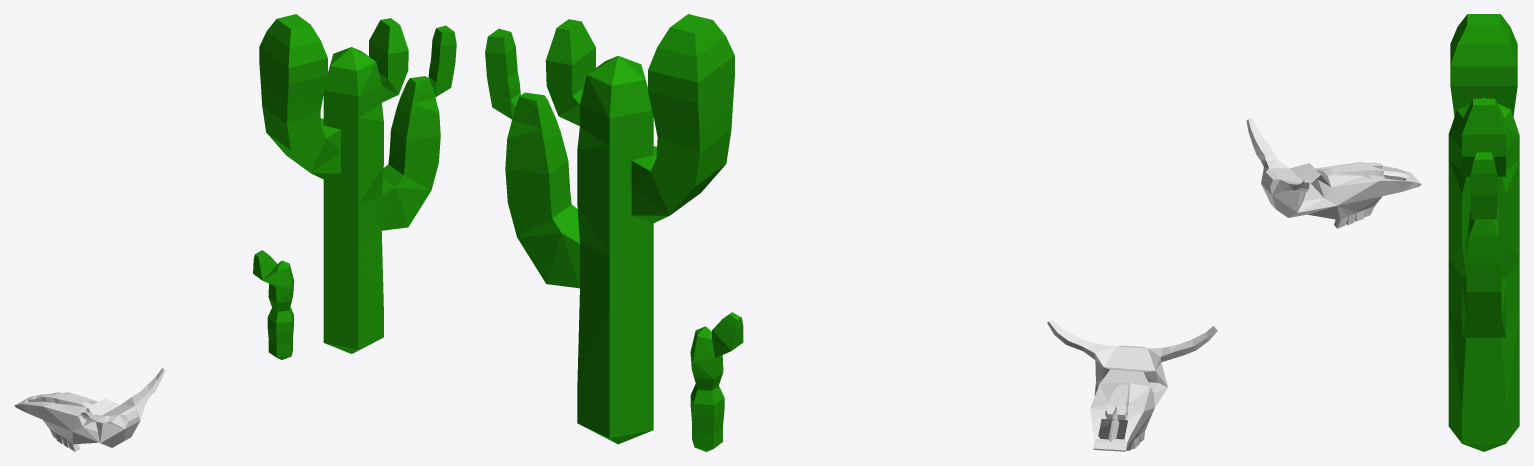
File: cactus.dae
3 views of the same model, side by side, from view 1: azimuth 30°, elevation 25°; view 2: azimuth 150°, elevation 25°; view 3: azimuth 270°, elevation 25° (orthographic). The views are drawn at different scales.
Visible parts, largest first — view 1: Icosphere, Cube.001, Icosphere_001; view 2: Icosphere, Cube.001, Icosphere_001; view 3: Icosphere, Cube.001.
Part boxes in pixels (x1=…): Icosphere: x1=259, y1=14, x2=456, y2=353; Cube.001: x1=14, y1=368, x2=164, y2=451; Icosphere_001: x1=253, y1=250, x2=294, y2=359; Icosphere: x1=485, y1=14, x2=734, y2=444; Cube.001: x1=1047, y1=320, x2=1217, y2=451; Icosphere_001: x1=690, y1=312, x2=743, y2=451; Icosphere: x1=1448, y1=14, x2=1519, y2=451; Cube.001: x1=1246, y1=118, x2=1421, y2=228.
Bounding box in the file's own units: 8.09 × 3.51 × 5.68.
